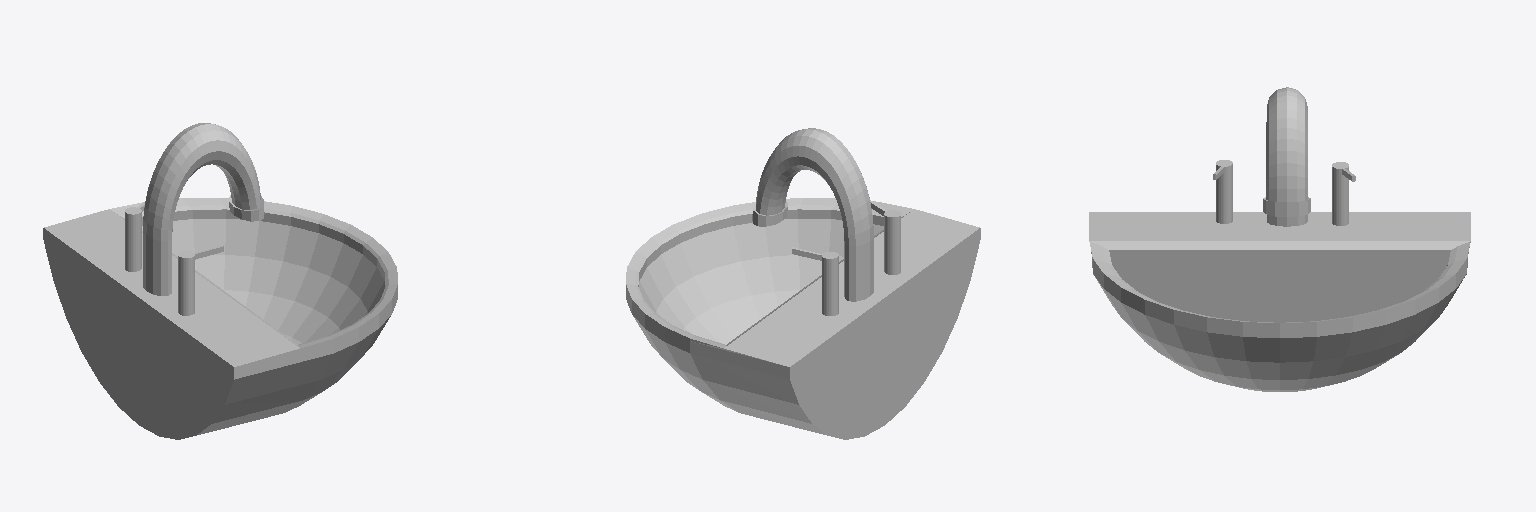
The model's file is sink.obj.
3 views of the same model, side by side, from view 1: azimuth 30°, elevation 25°; view 2: azimuth 150°, elevation 25°; view 3: azimuth 270°, elevation 25° (orthographic).
Parts seen in each view (by area): view 1: Sphere, Torus, Cylinder.001, Cylinder; view 2: Sphere, Torus, Cylinder, Cylinder.001; view 3: Sphere, Torus, Cylinder, Cylinder.001.
Boxes of the visible parts, x1=… form: Sphere: x1=43, y1=198, x2=397, y2=439; Torus: x1=143, y1=123, x2=264, y2=295; Cylinder.001: x1=178, y1=245, x2=223, y2=315; Cylinder: x1=125, y1=202, x2=144, y2=271; Sphere: x1=626, y1=198, x2=980, y2=439; Torus: x1=752, y1=128, x2=873, y2=301; Cylinder: x1=792, y1=247, x2=838, y2=315; Cylinder.001: x1=870, y1=200, x2=900, y2=274; Sphere: x1=1089, y1=212, x2=1470, y2=391; Torus: x1=1263, y1=87, x2=1310, y2=226; Cylinder: x1=1332, y1=162, x2=1355, y2=225; Cylinder.001: x1=1213, y1=160, x2=1232, y2=223.
Bounding box in the file's own units: 1.57 × 1.81 × 2.22.